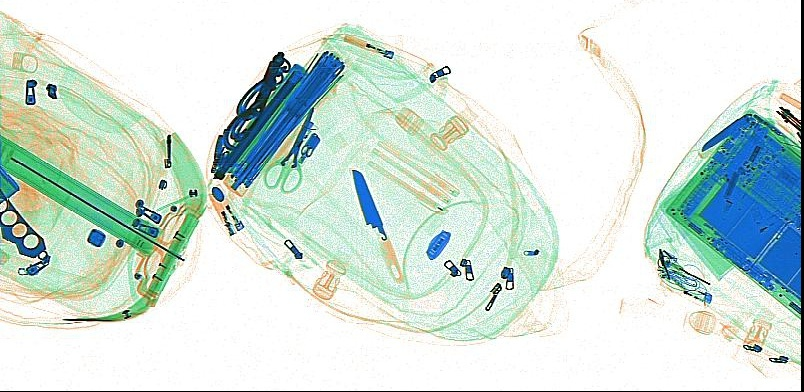handcuffs: (222, 49, 291, 147)
knife: (351, 168, 402, 284), (1, 188, 48, 259), (699, 114, 750, 154), (774, 105, 799, 129)
lighter: (266, 118, 313, 168), (657, 268, 712, 305), (213, 182, 244, 232), (342, 33, 394, 58), (207, 192, 233, 235)
scissors: (263, 106, 313, 193)
